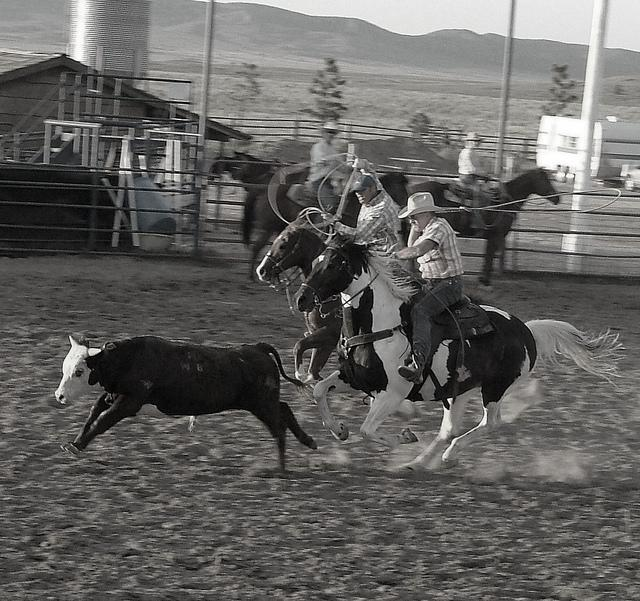car: (624, 165, 640, 192)
